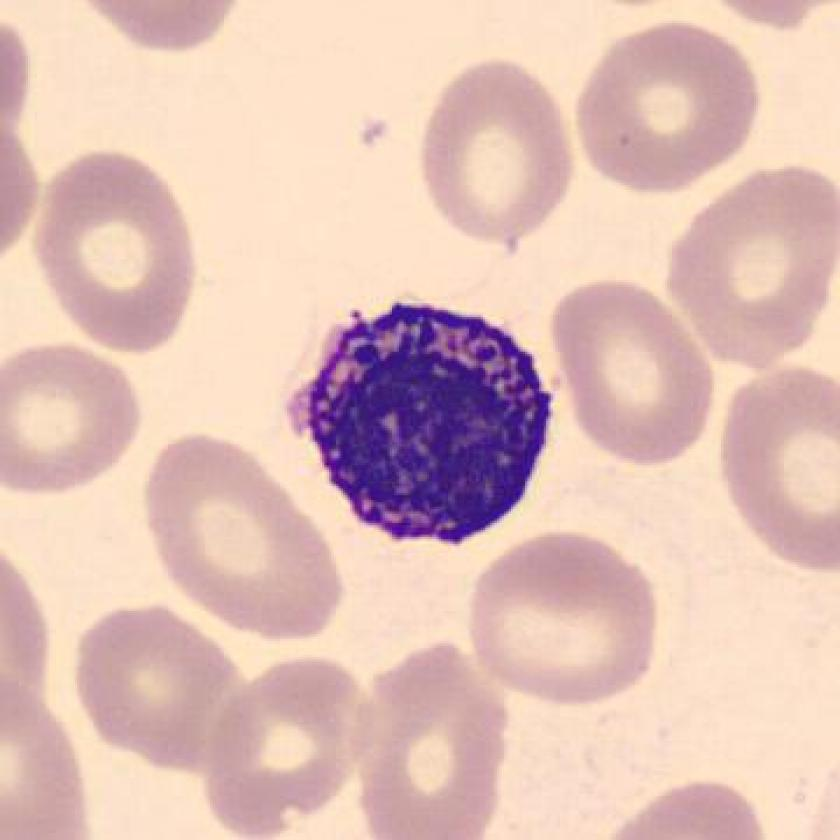basophil: (281, 281, 563, 566)
